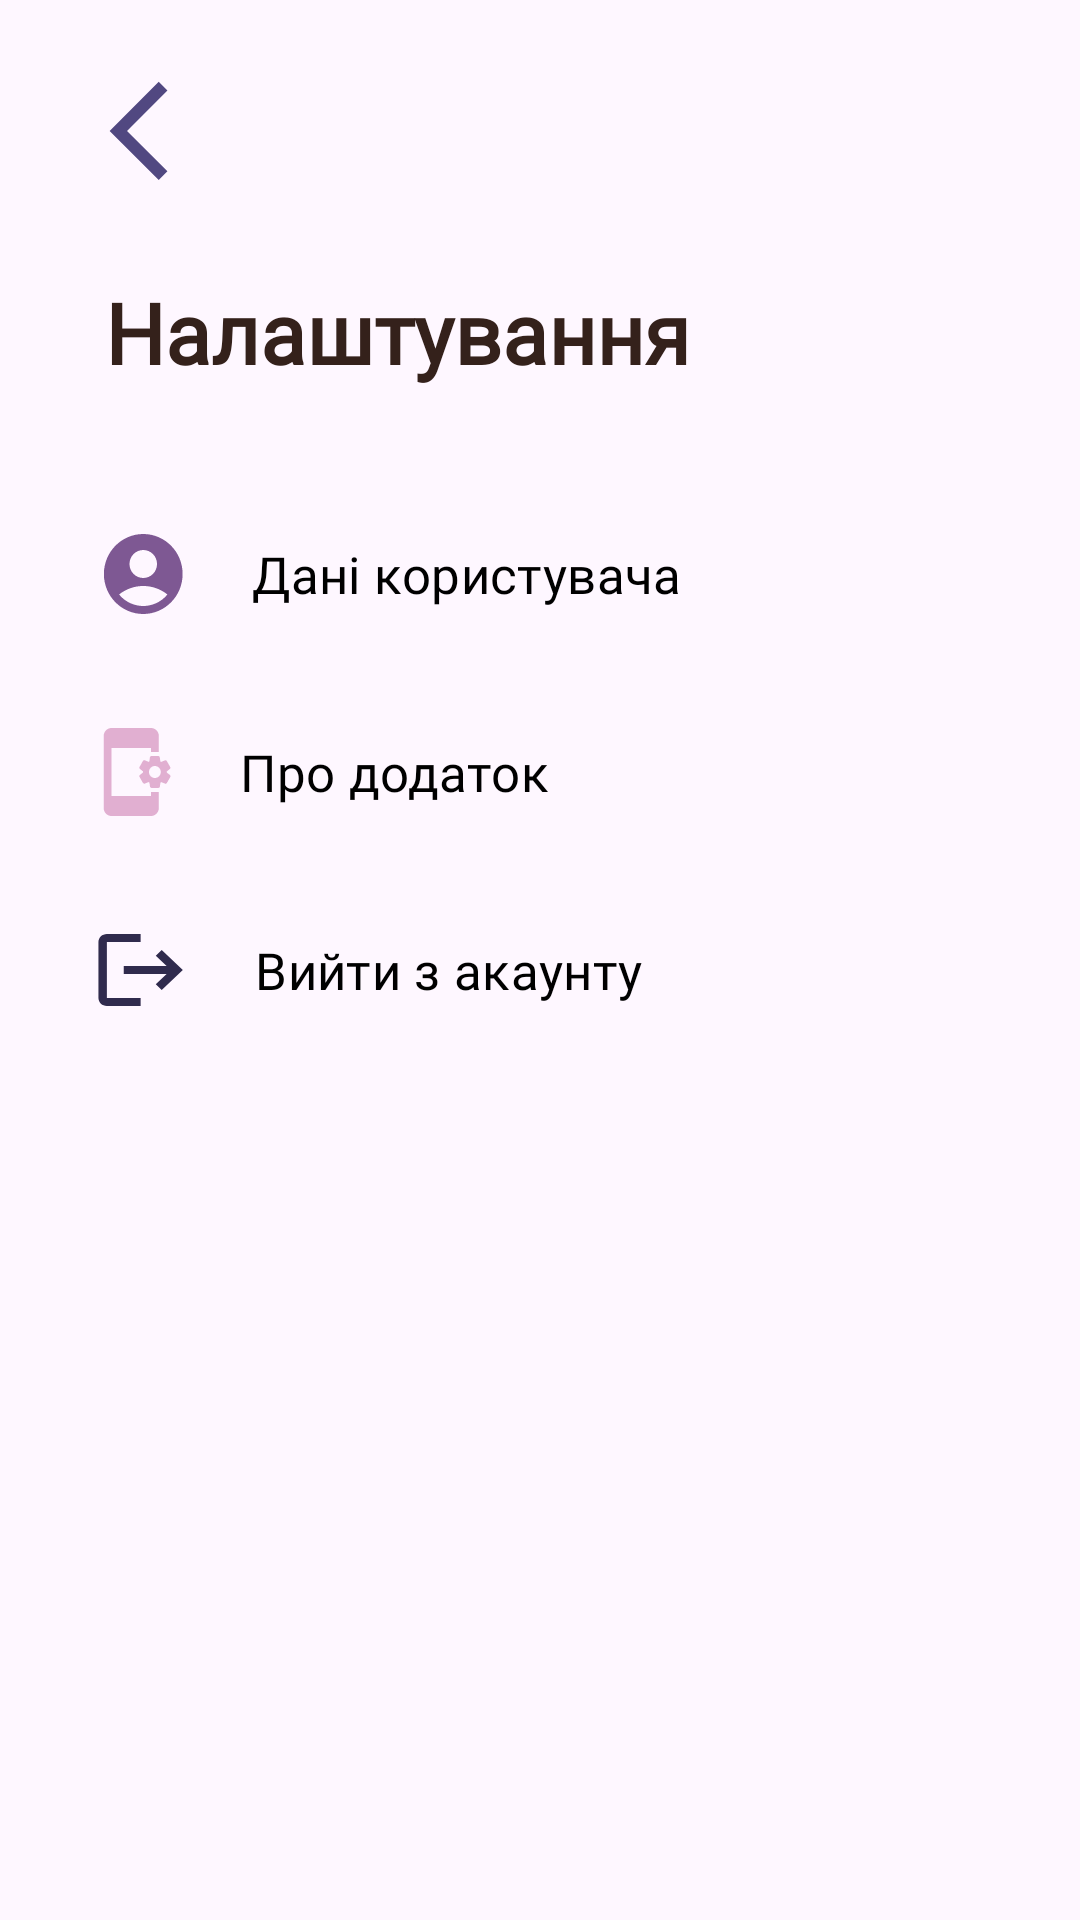

Icon click points for this 1080×1920 phone screenshot, format [x,y]:
Повернутись на головну сторінку: [139,131]
